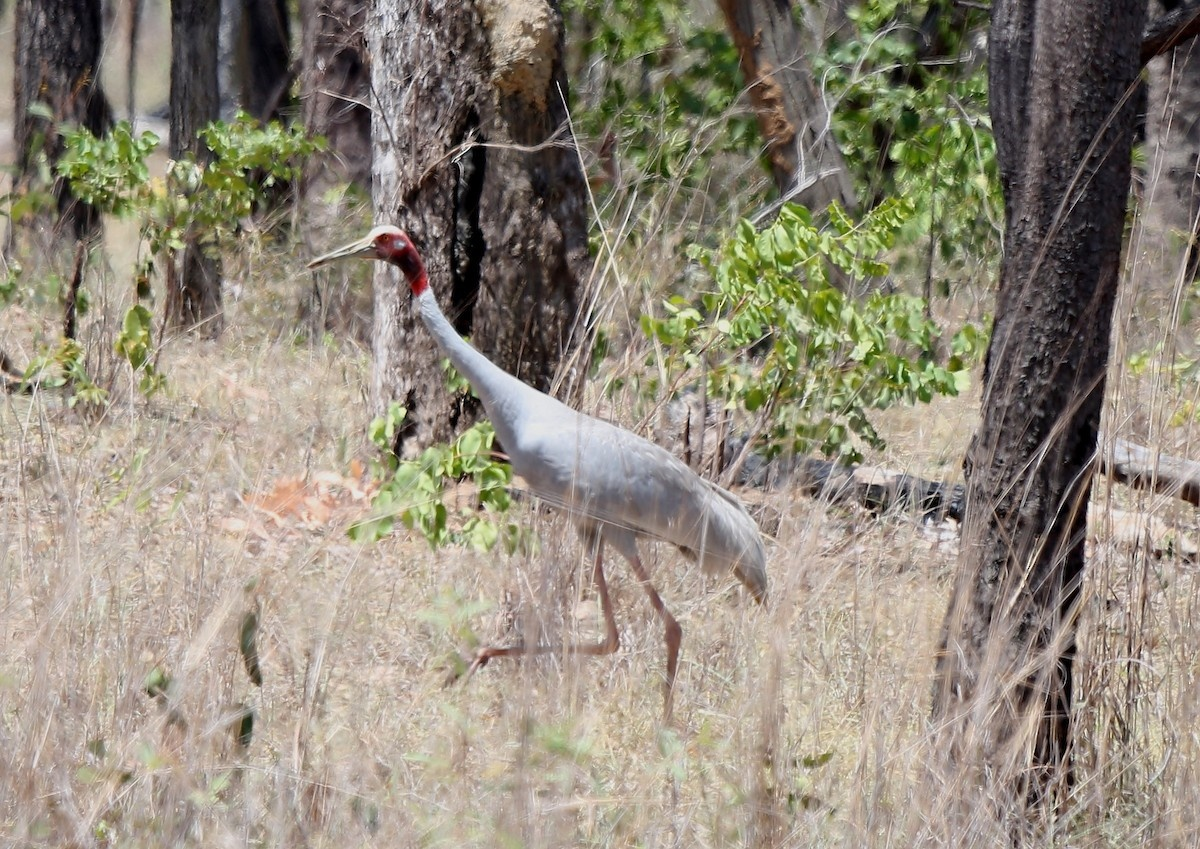crane: (300, 205, 785, 712)
